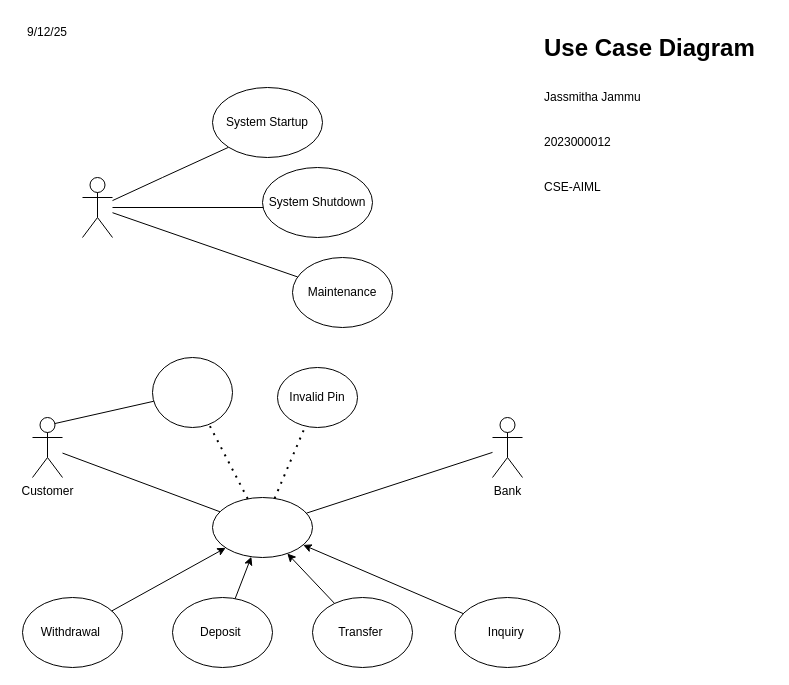
This 789x685 diagram has some shape labels left out. The shapes that lost their labels are listed below. From the top down, each one's box as (x1, y1, x2, y2) in pixels, then its label:
(82, 176, 112, 238): Operator
(152, 356, 232, 428): Session
(212, 496, 312, 558): Transaction
